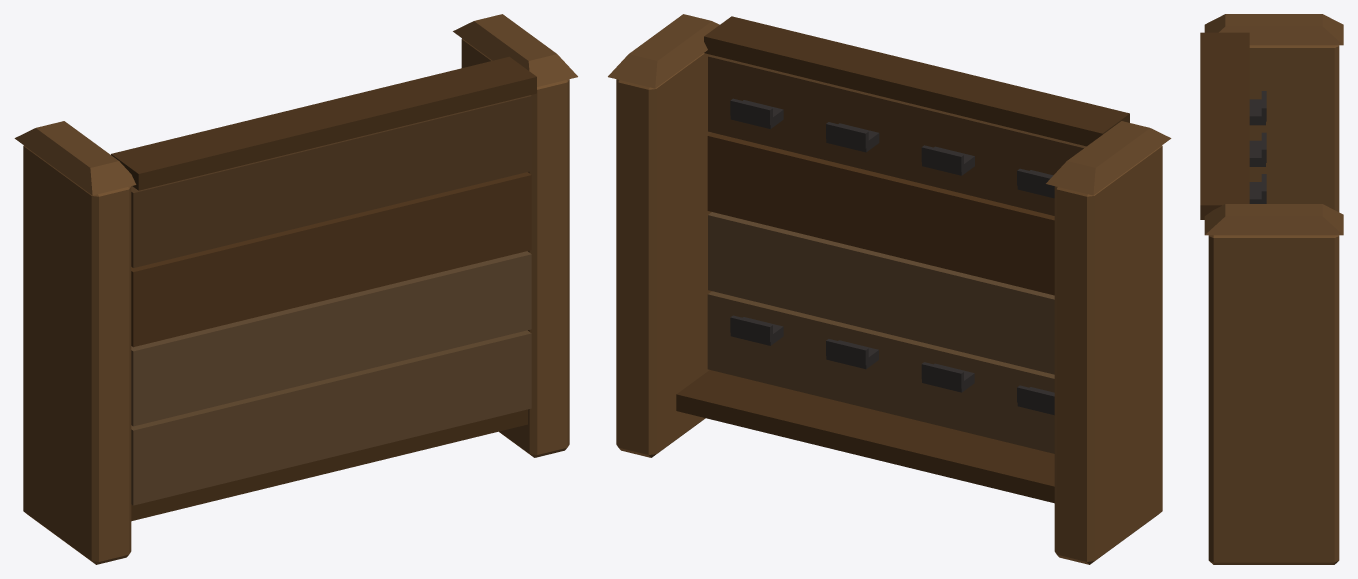
File: AxeRack.glb
3 renders of one model, left to right at view 1: azimuth 30°, elevation 25°; view 2: azimuth 150°, elevation 25°; view 3: azimuth 270°, elevation 25°, orthographic. The views are drawn at different scales.
Parts seen in each view (by area): view 1: Body; view 2: Body; view 3: Body.
Part boxes in pixels (left/top/right/bottom): Body: left=14, top=14, right=577, bottom=564; Body: left=608, top=14, right=1171, bottom=564; Body: left=1200, top=14, right=1343, bottom=564.
Size of what is drawn, in the model's own units: 6.1 by 4.7 by 1.75.
